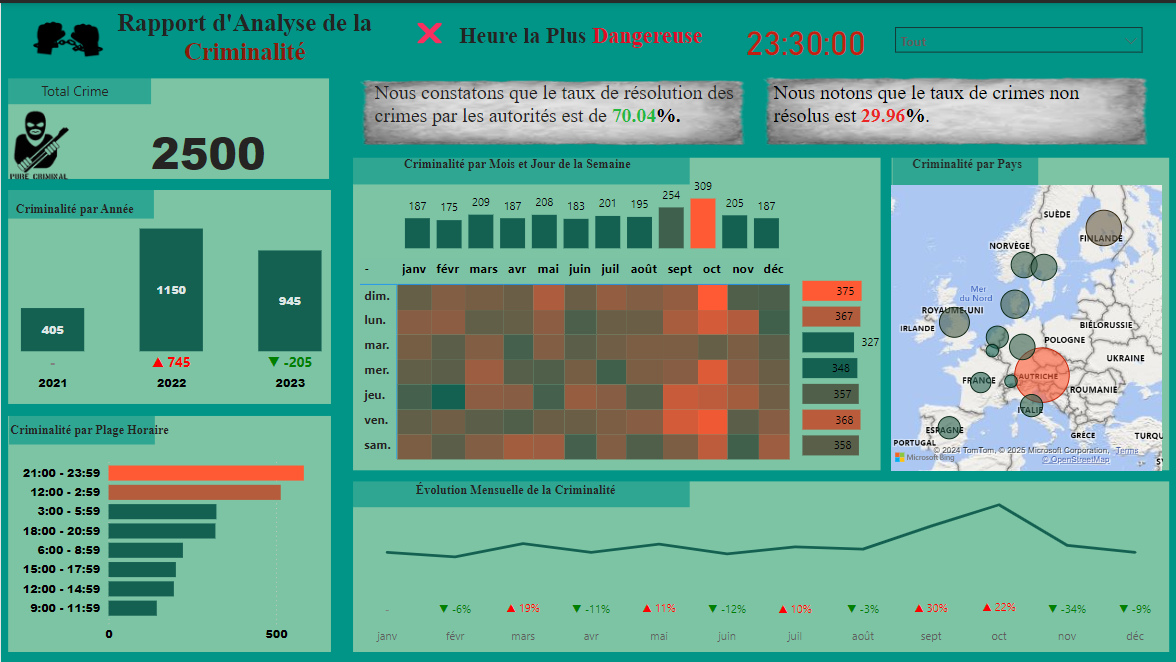

The dashboard page shown, as its layout file describes it:
{"tool":"powerbi","page":{"name":"report ","canvas":[1280,720],"ordinal":0},"visuals":[{"type":"card","fields":{"Values":["_mesure.total_crime"]},"box":[128,128,192,64],"z":0},{"type":"columnChart","fields":{"Category":["date_table.Year"],"Y":["_mesure.blanck measure (year)","_mesure.total_crime"]},"box":[16,224,336,208],"z":1000},{"type":"lineChart","fields":{"Category":["date_table.month"],"Y":["_mesure.blanck measure (month)","_mesure.total_crime"]},"box":[384,512,880,192],"z":2000},{"type":"clusteredBarChart","fields":{"Category":["Crime Data.time_group"],"Y":["_mesure.total_crime"]},"box":[16,480,336,224],"z":3000},{"type":"pivotTable","fields":{"Rows":["date_table.weekday"],"Columns":["date_table.month"],"Values":["_mesure.total_crime"]},"box":[384,272,480,240],"z":4000},{"type":"columnChart","fields":{"Y":["_mesure.total_crime"],"Category":["date_table.month"]},"box":[432,176,416,96],"z":5000},{"type":"clusteredBarChart","fields":{"Category":["date_table.weekday"],"Y":["_mesure.total_crime"]},"box":[864,288,96,208],"z":6000},{"type":"textbox","box":[832,80,368,80],"z":7000},{"type":"textbox","box":[400,80,400,80],"z":8000},{"type":"card","fields":{"Values":["Min(Crime Data.Crime Time)"]},"box":[752,16,208,48],"z":9000},{"type":"map","fields":{"Category":["Crime Data.Country"],"Size":["_mesure.total_crime"]},"box":[960,192,304,320],"z":10000},{"type":"textbox","box":[480,16,272,48],"z":11000},{"type":"card","fields":{"Values":["_mesure.cross"]},"box":[416,16,96,48],"z":12000},{"type":"textbox","box":[0,80,160,32],"z":13000},{"type":"textbox","box":[0,208,160,32],"z":14000},{"type":"textbox","box":[0,448,176,32],"z":15000},{"type":"textbox","box":[384,512,352,48],"z":16000},{"type":"textbox","box":[384,160,352,48],"z":17000},{"type":"textbox","box":[112,16,304,48],"z":18000},{"type":"textbox","box":[960,160,176,32],"z":19000},{"type":"slicer","fields":{"Values":["Crimes types.Crime"]},"box":[960,16,288,48],"z":20000}]}

Visuals, with their boxes in screenshot pixels (x1, y1, x2, y2), scaled from the page's 1280x720 canvas onto the 1176x662 screenshot:
card - _mesure.total_crime: bbox=[118, 118, 294, 177]
columnChart - date_table.Year x _mesure.blanck measure (year): bbox=[15, 206, 323, 397]
lineChart - date_table.month x _mesure.blanck measure (month): bbox=[353, 471, 1161, 647]
clusteredBarChart - Crime Data.time_group x _mesure.total_crime: bbox=[15, 441, 323, 647]
pivotTable - date_table.weekday x date_table.month: bbox=[353, 250, 794, 471]
columnChart - _mesure.total_crime x date_table.month: bbox=[397, 162, 779, 250]
clusteredBarChart - date_table.weekday x _mesure.total_crime: bbox=[794, 265, 882, 456]
textbox: bbox=[764, 74, 1102, 147]
textbox: bbox=[368, 74, 735, 147]
card - Min(Crime Data.Crime Time): bbox=[691, 15, 882, 59]
map - Crime Data.Country x _mesure.total_crime: bbox=[882, 177, 1161, 471]
textbox: bbox=[441, 15, 691, 59]
card - _mesure.cross: bbox=[382, 15, 470, 59]
textbox: bbox=[0, 74, 147, 103]
textbox: bbox=[0, 191, 147, 221]
textbox: bbox=[0, 412, 162, 441]
textbox: bbox=[353, 471, 676, 515]
textbox: bbox=[353, 147, 676, 191]
textbox: bbox=[103, 15, 382, 59]
textbox: bbox=[882, 147, 1044, 177]
slicer - Crimes types.Crime: bbox=[882, 15, 1147, 59]
